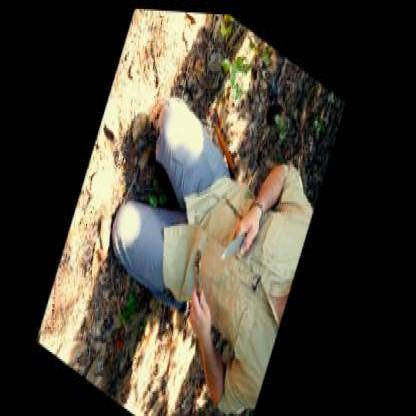knife: (222, 193, 265, 275)
